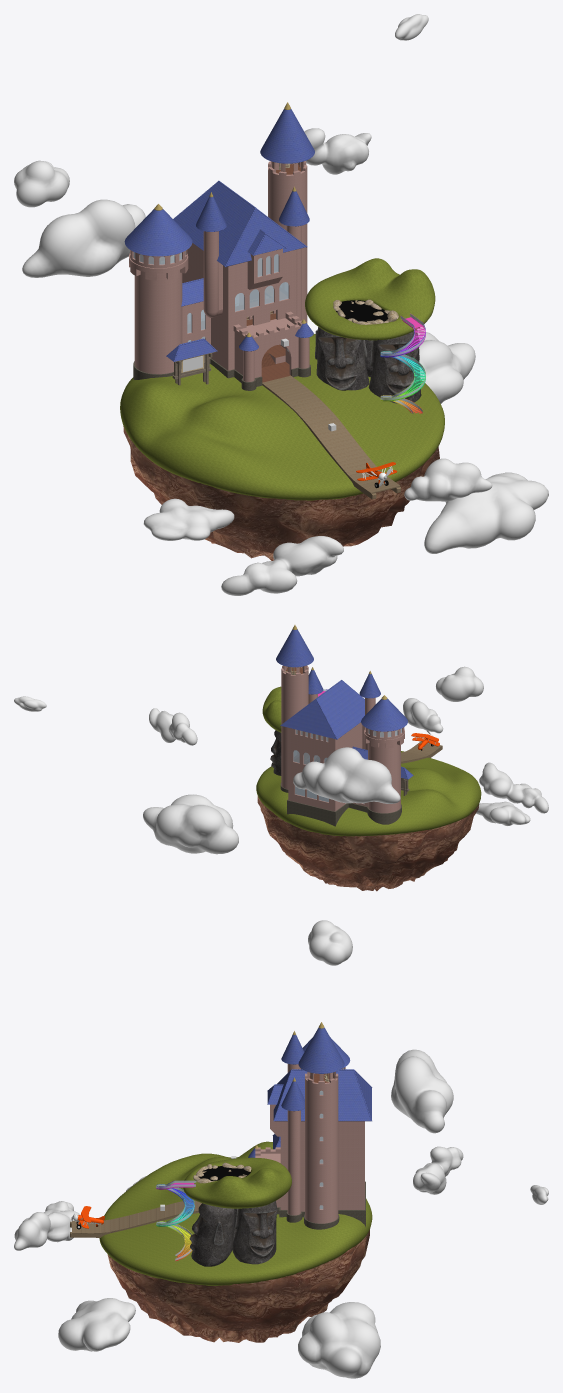
File: Test6_NoGrassCstmPrprtsWtrMsh_v05.glb
3 renders of one model, top to bottom at view 1: azimuth 30°, elevation 25°; view 2: azimuth 150°, elevation 25°; view 3: azimuth 270°, elevation 25°, orthographic. The views are drawn at different scales.
Parts seen in each view (by area): view 1: MainIsland, Castle, EasterIsland, Cloud2_low.001, Cloud5_low.001, Cloud4_low, Cloud3_low, Cloud5_low, Cloud2_low, Cloud4_low.001, Cloud1_low, NoticeBoard (+1 smaller); view 2: MainIsland, Castle, Cloud3_low, Cloud2_low.001, Cloud4_low, Cloud1_low, Cloud4_low.001, EasterIsland, Cloud5_low, Cloud2_low, Cloud1_low.001; view 3: MainIsland, Castle, EasterIsland, Cloud3_low, Cloud2_low.001, Cloud5_low.001, Cloud1_low, Cloud4_low.001, Cloud2_low, Cloud4_low.
Part boxes in pixels (x1,y1,x2,y2): MainIsland: (120,334,444,560); Castle: (124,102,314,390); EasterIsland: (305,258,435,413); Cloud2_low.001: (22,199,145,277); Cloud5_low.001: (424,472,548,553); Cloud4_low: (221,536,343,595); Cloud3_low: (417,330,475,403); Cloud5_low: (143,498,234,540); Cloud2_low: (404,458,492,501); Cloud4_low.001: (304,128,371,174); Cloud1_low: (14,160,69,207); NoticeBoard: (166,338,217,385); MainIsland: (256,741,481,891); Castle: (276,625,407,826); Cloud3_low: (143,794,238,854); Cloud2_low.001: (293,747,400,803); Cloud4_low: (479,762,548,813); Cloud1_low: (436,666,483,701); Cloud4_low.001: (149,708,197,745); EasterIsland: (262,686,327,775); Cloud5_low: (476,801,530,825); Cloud2_low: (403,698,443,733); Cloud1_low.001: (14,696,46,711); MainIsland: (70,1141,372,1342); Castle: (248,1022,372,1229); EasterIsland: (156,1157,291,1266); Cloud3_low: (298,1302,380,1378); Cloud2_low.001: (391,1049,453,1133); Cloud5_low.001: (58,1298,135,1351); Cloud1_low: (308,920,352,965); Cloud4_low.001: (413,1146,463,1194); Cloud2_low: (14,1212,50,1250); Cloud4_low: (43,1201,80,1242).
Size of what is drawn, in the model's own units: 220 by 153 by 222.
Materials: 22 (15 with a texture image).
